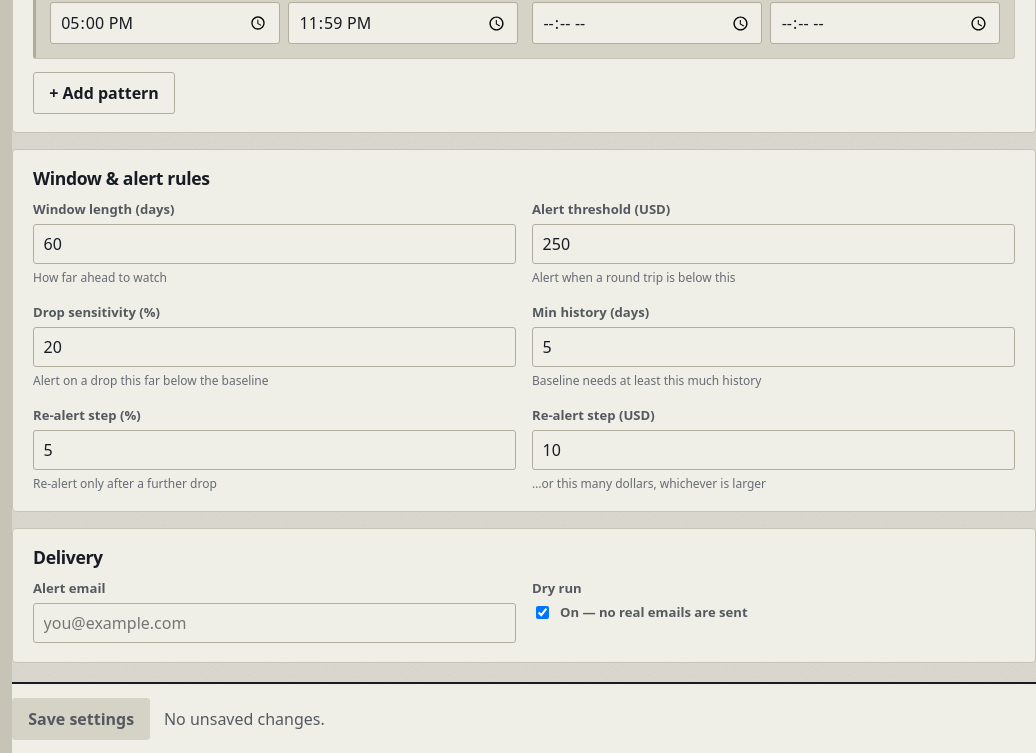
Test case: SettingsForm › only flags the email field once the validator rejects it, not before
(page scrolled)
Type "not-an-email" into the field labelled "Alert email" at [274, 623], box [33,603,516,644]
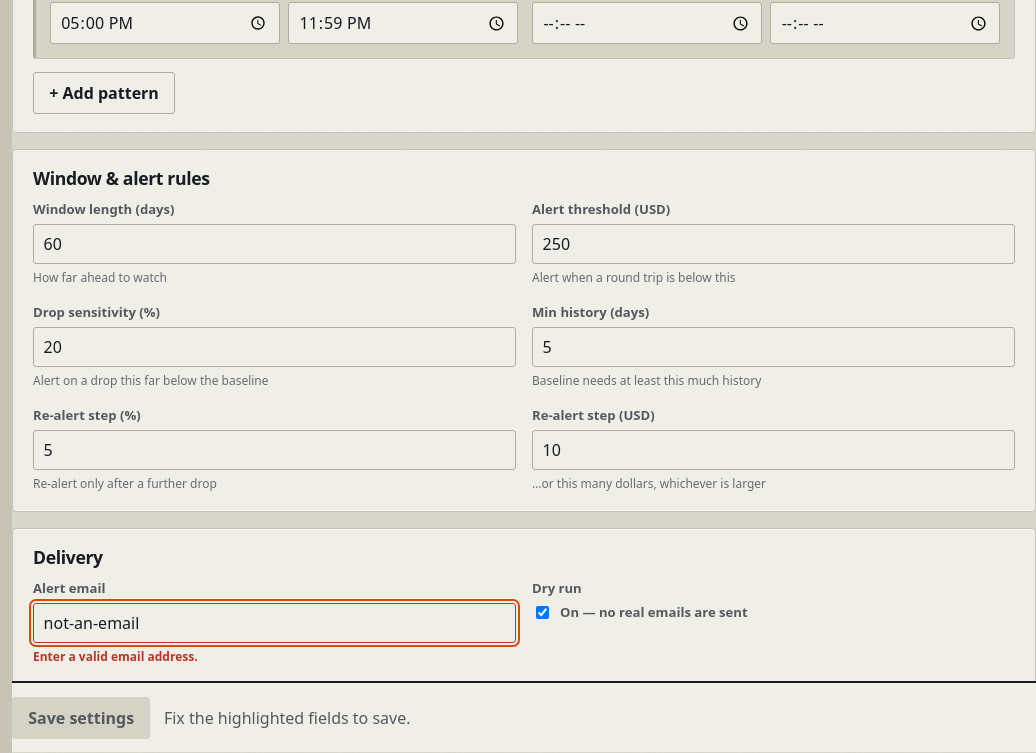
Check: the text "Enter a valid email address." is shown, box [33,648,198,665]
